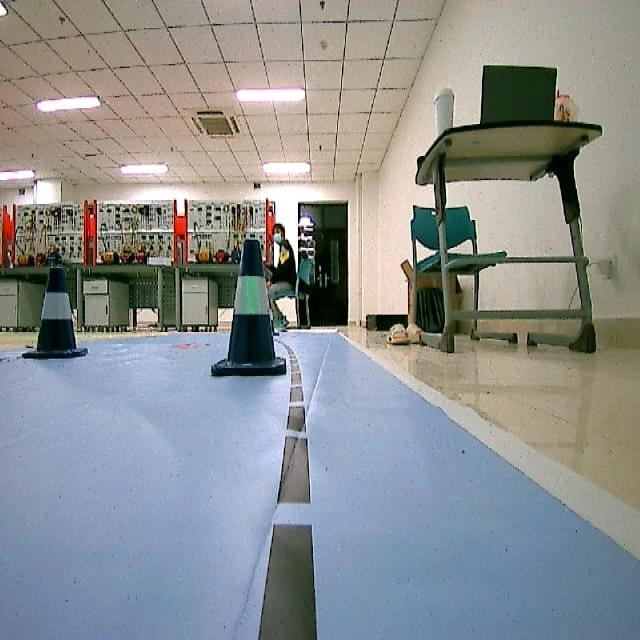obstacle: (210, 236, 286, 380), (26, 264, 93, 364)
